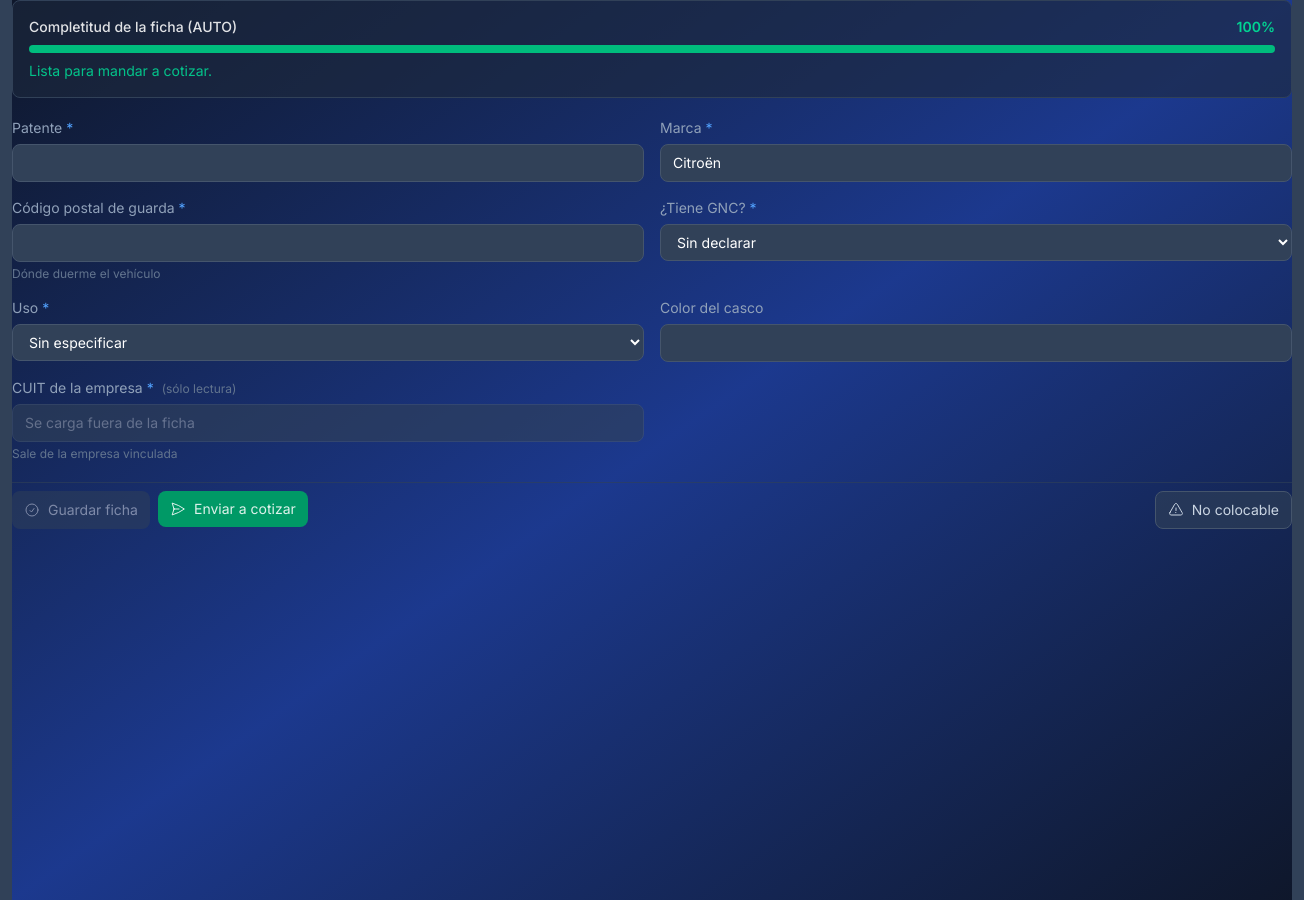
Test case: C-17 · la pestaña Riesgo › el 422 de ficha incompleta se muestra como lista de faltantes, no como "Error 422"
Expected: the text "100%" is shown, x1=1236 y1=17 x2=1275 y2=37
Click the button "Enviar a cotizar" at (233, 509), box x1=158 y1=491 x2=308 y2=527
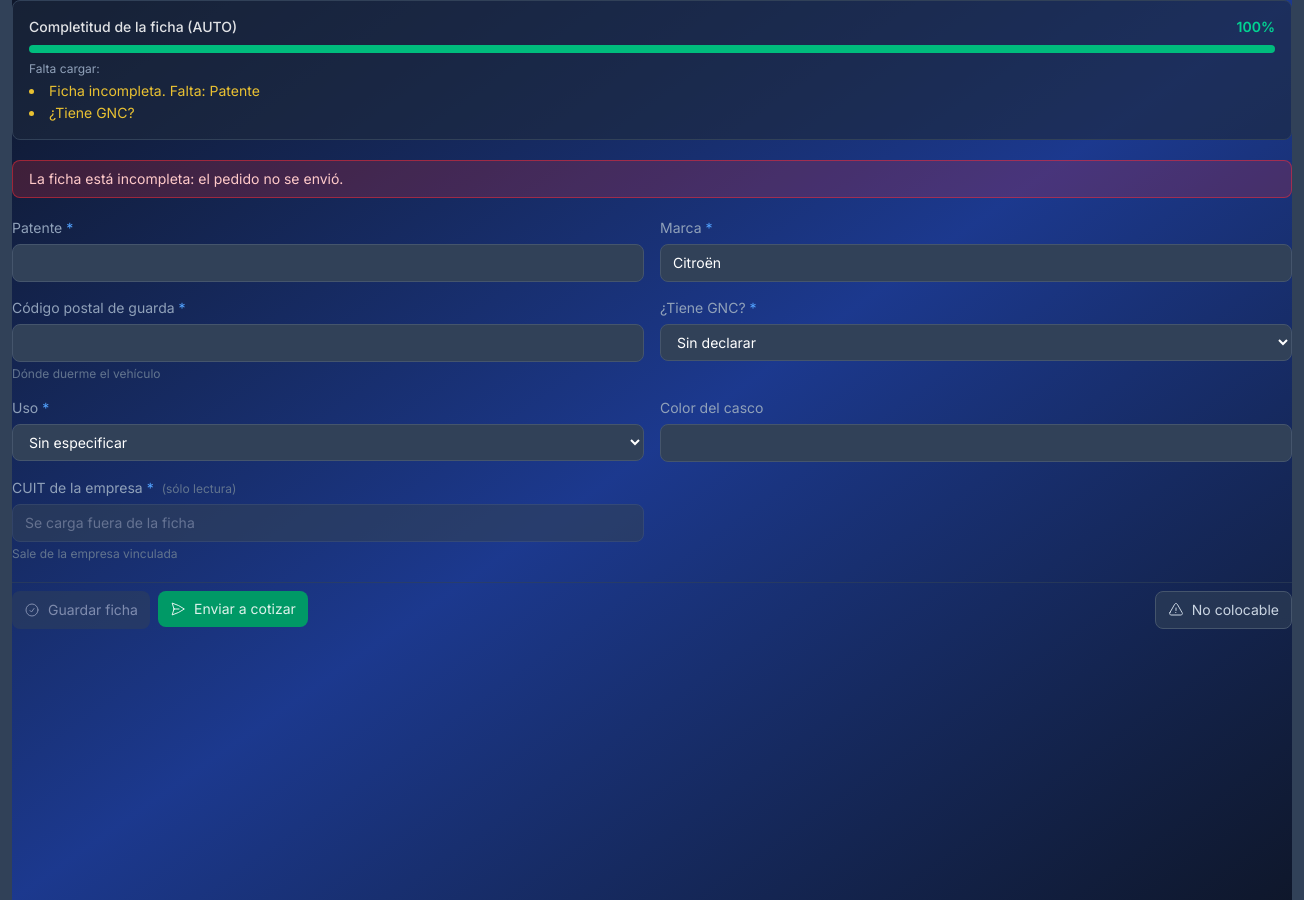
Expected: the list item "¿Tiene GNC?" is shown, x1=49 y1=104 x2=134 y2=121
Result: the text "La ficha está incompleta: el pedido no se envió." is shown at x1=12 y1=160 x2=1292 y2=198
